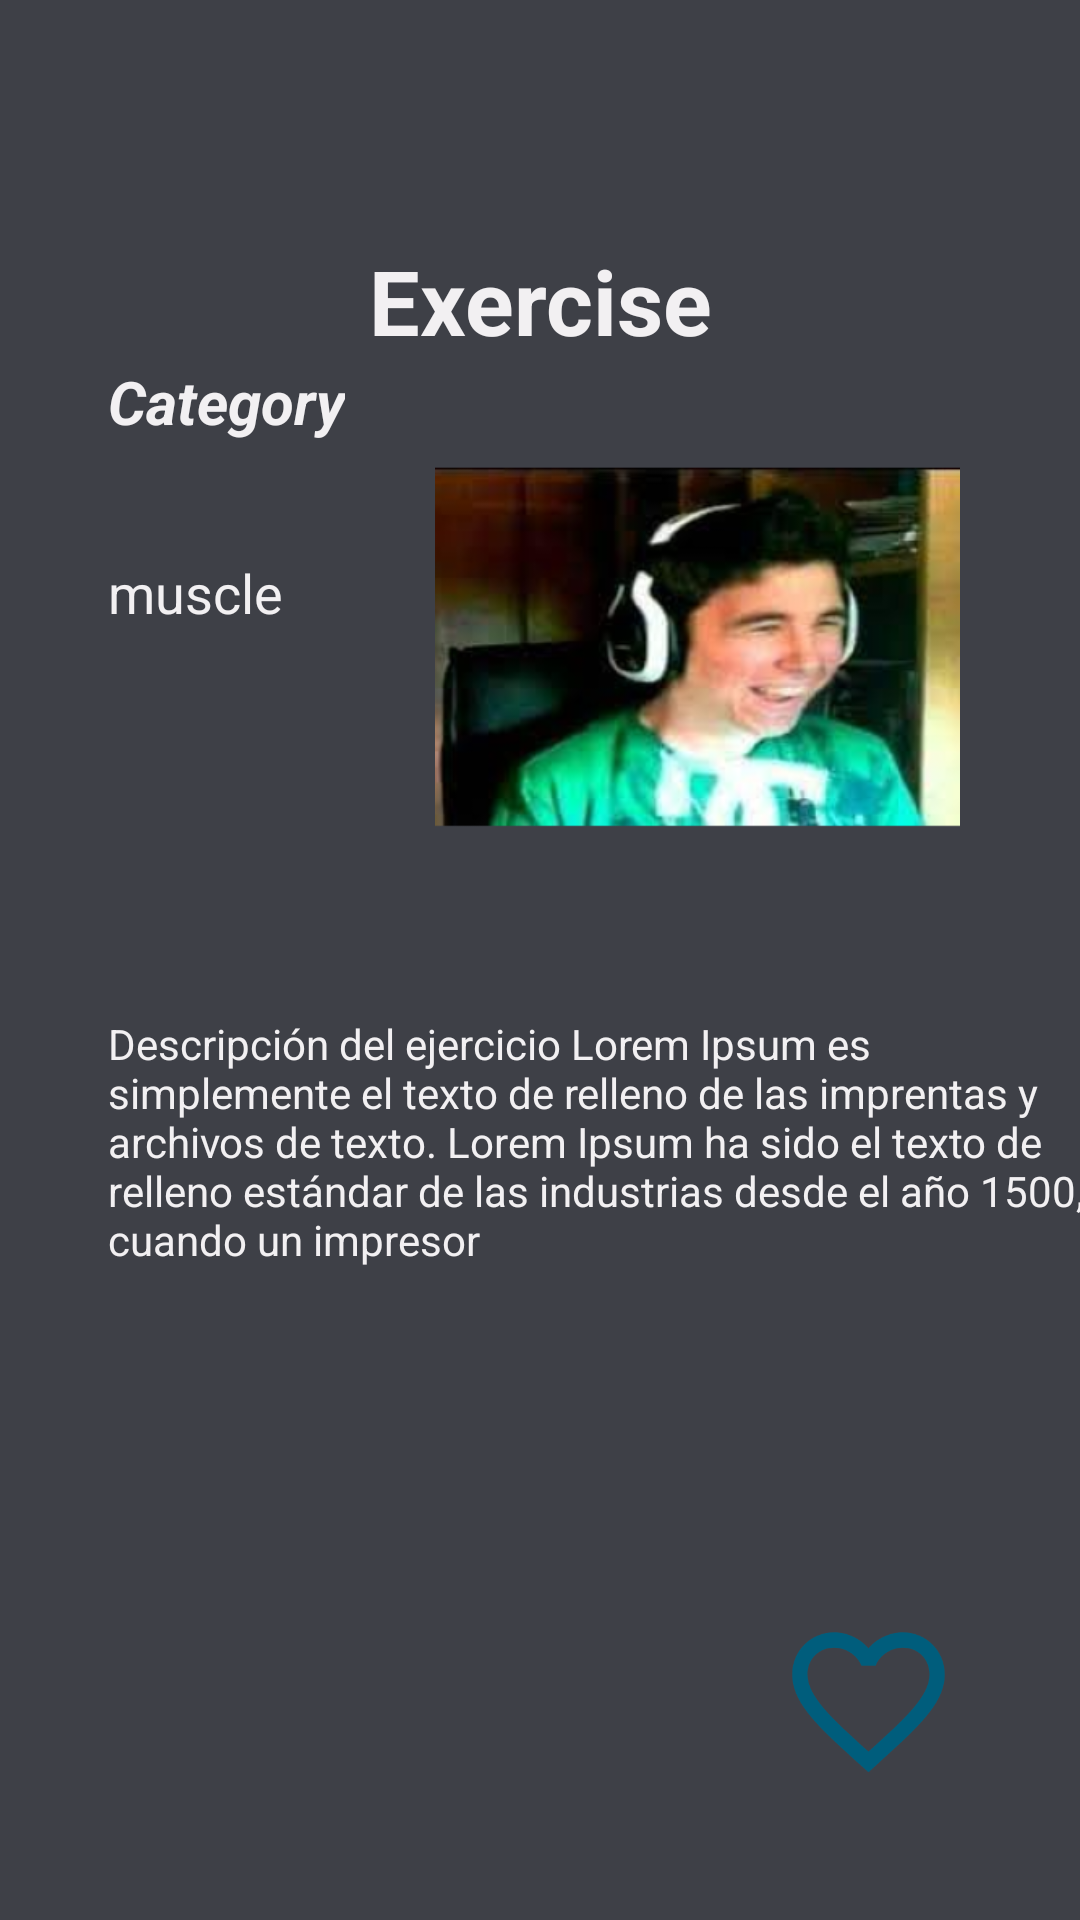

Icon click points for this 1080 x 1920 phone screenshot, format (x=x, y=y):
favorite border: (x=868, y=1702)
